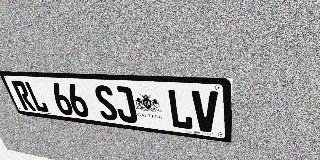6: (64, 83, 91, 118), (48, 82, 75, 116)
J: (111, 86, 138, 124)
L: (166, 89, 193, 130), (23, 81, 50, 113)
R: (10, 80, 37, 111)
S: (92, 85, 119, 121)
V: (191, 90, 218, 133)
